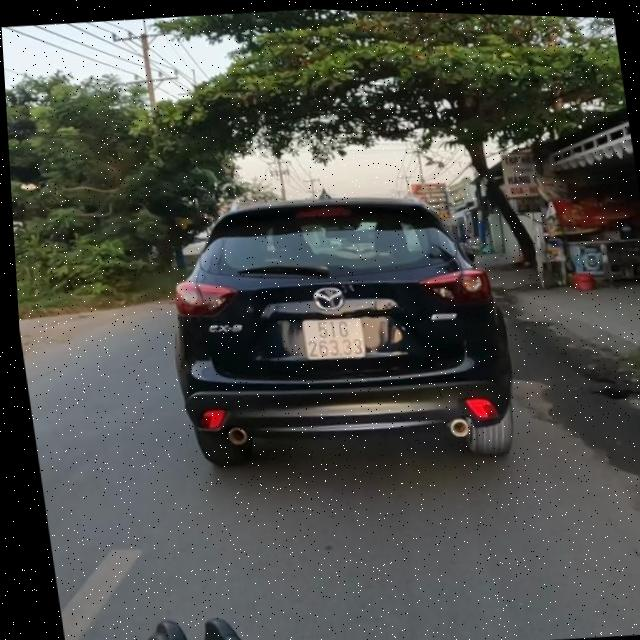car: (154, 168, 532, 501)
plate: (293, 310, 376, 367)
